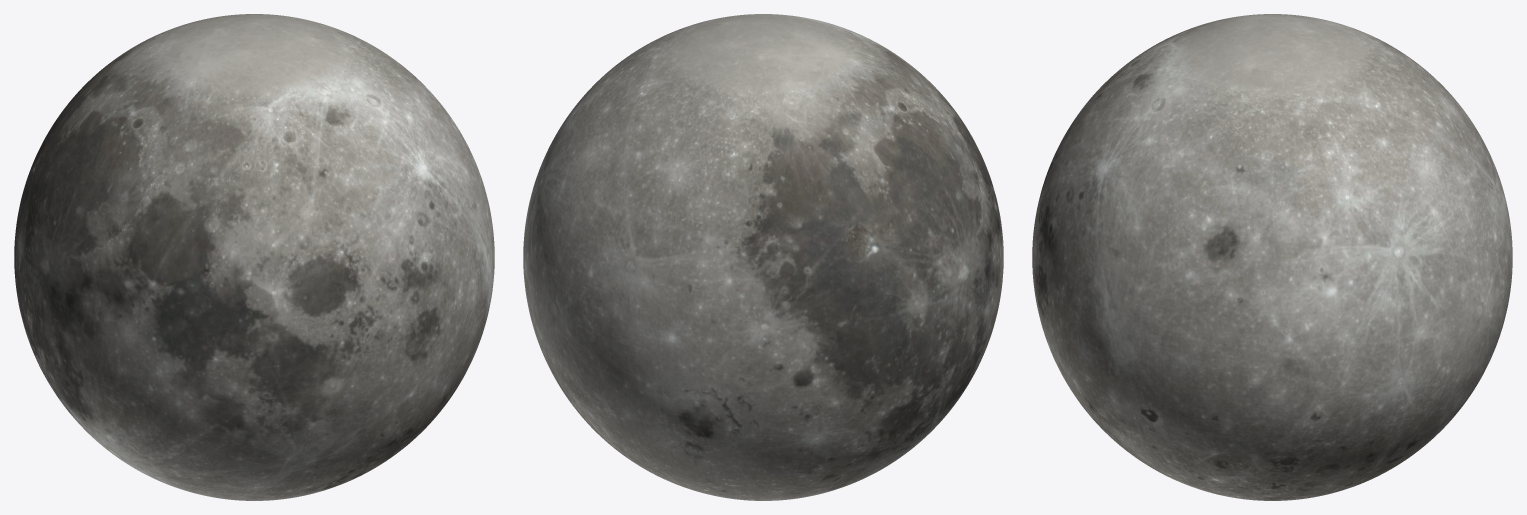
Rendered from moon_slim.glb.
The picture shows the model from 3 angles, left to right: view 1: azimuth 30°, elevation 25°; view 2: azimuth 150°, elevation 25°; view 3: azimuth 270°, elevation 25°; orthographic projection.
Visible parts, largest first — view 1: pSphere1; view 2: pSphere1; view 3: pSphere1.
Boxes of the visible parts, bbox=[...] form: pSphere1: bbox=[14, 14, 494, 500]; pSphere1: bbox=[523, 14, 1003, 500]; pSphere1: bbox=[1032, 14, 1512, 500].
Size of the model in its own units: 14.38 by 14.65 by 14.38.
Materials: 1 (1 with a texture image).
